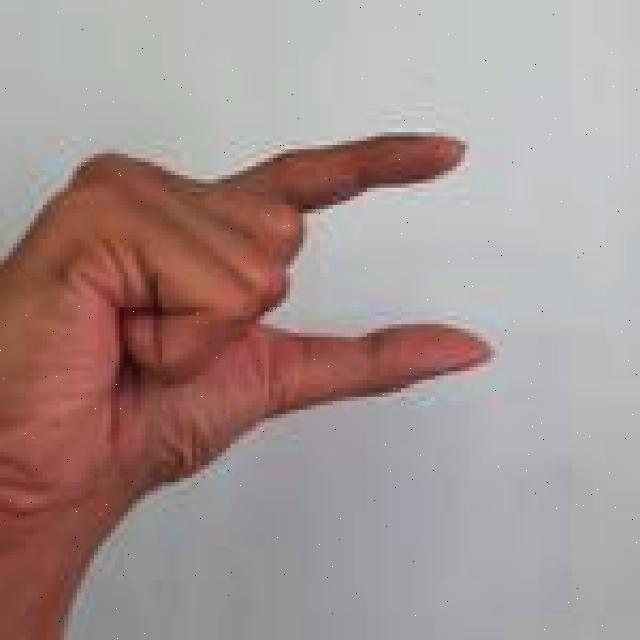G: (0, 128, 498, 640)
